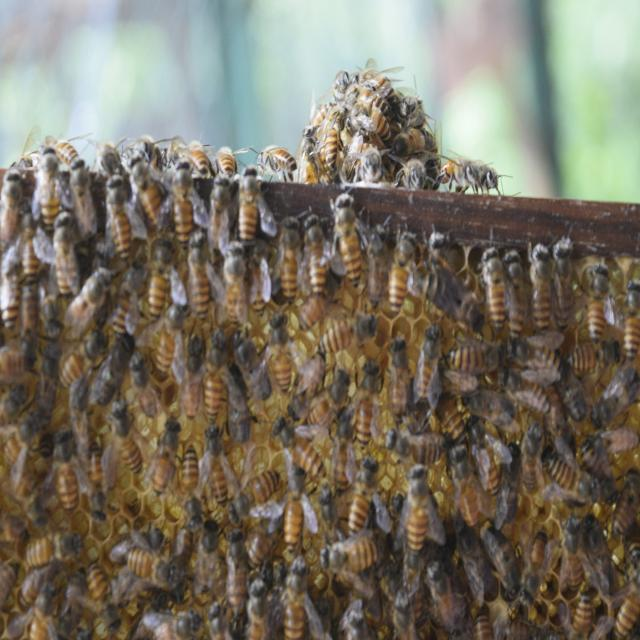honeybee: (93, 327, 138, 403), (419, 260, 472, 322), (148, 411, 184, 491), (482, 522, 524, 589), (277, 413, 321, 474), (106, 176, 137, 259), (118, 543, 184, 581), (0, 414, 36, 483), (204, 422, 234, 503), (468, 413, 498, 493), (446, 443, 476, 522), (590, 514, 621, 590), (324, 541, 382, 581), (36, 524, 94, 564), (53, 209, 78, 301), (411, 324, 442, 398), (64, 330, 108, 382), (269, 313, 297, 394), (388, 422, 438, 467), (54, 424, 81, 507), (299, 275, 339, 331), (220, 238, 246, 324), (74, 267, 111, 327), (292, 346, 328, 407), (236, 331, 266, 404), (354, 360, 376, 456), (112, 409, 144, 475), (168, 166, 196, 240), (338, 196, 362, 282), (229, 466, 280, 506), (83, 442, 109, 519), (427, 560, 456, 629), (404, 463, 426, 553), (156, 301, 186, 367), (503, 246, 526, 332), (354, 462, 379, 541), (226, 515, 247, 609), (146, 235, 175, 303), (188, 233, 211, 318), (196, 522, 221, 600), (524, 528, 548, 609), (554, 241, 577, 325), (254, 144, 302, 184), (245, 240, 272, 310), (509, 334, 561, 370), (209, 328, 230, 417), (286, 459, 309, 540), (365, 225, 386, 312), (466, 152, 508, 195), (236, 164, 260, 238), (390, 228, 412, 307), (586, 265, 609, 340), (453, 526, 483, 583), (482, 249, 503, 330), (446, 338, 499, 370), (324, 319, 380, 349), (0, 247, 21, 327), (563, 506, 584, 585), (575, 340, 624, 372), (281, 213, 300, 295), (350, 92, 386, 135), (305, 217, 325, 294), (339, 596, 374, 640), (532, 246, 551, 327), (288, 562, 308, 638), (332, 407, 350, 488), (434, 153, 472, 191), (388, 341, 407, 416), (365, 64, 399, 104), (620, 276, 638, 351), (546, 446, 576, 491), (0, 341, 38, 376), (389, 593, 417, 640), (322, 107, 344, 166), (125, 132, 159, 167), (359, 146, 387, 187), (569, 586, 590, 640), (401, 157, 429, 196), (19, 278, 37, 338), (400, 122, 432, 155), (46, 129, 76, 163), (188, 136, 211, 180), (157, 616, 198, 640), (474, 604, 496, 640), (216, 147, 234, 180)
